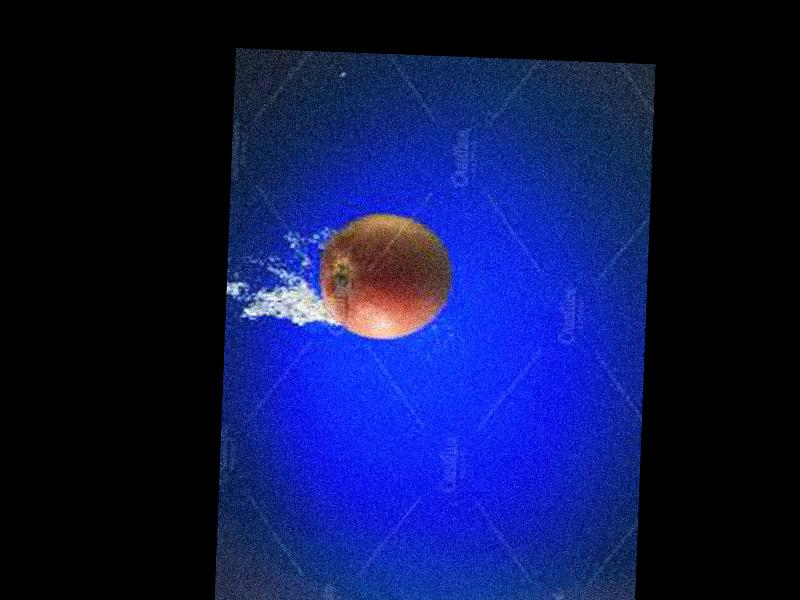Tomato: (317, 210, 450, 341)
